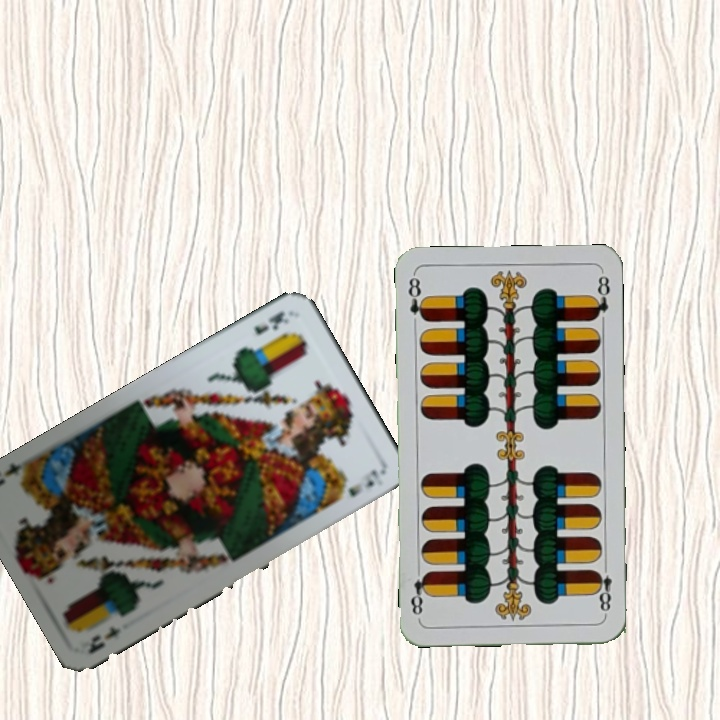E8: (591, 559, 614, 618), (404, 272, 429, 324)
EK: (84, 621, 124, 657), (250, 307, 292, 338)
